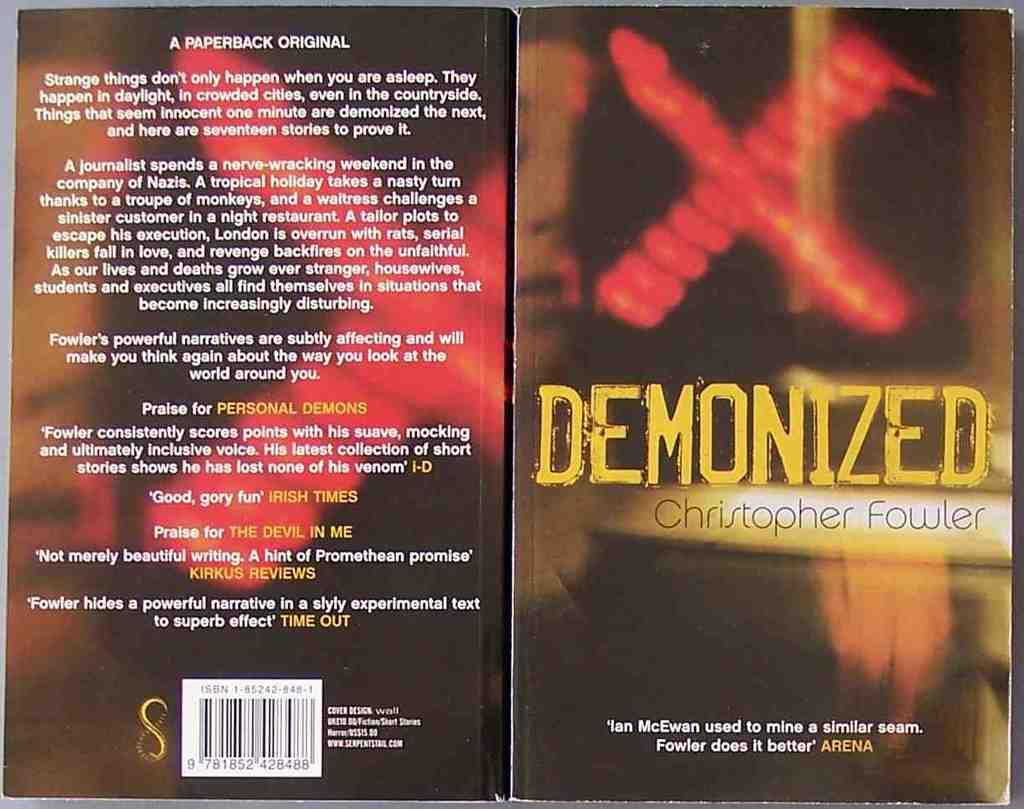book: (1, 0, 1014, 803)
